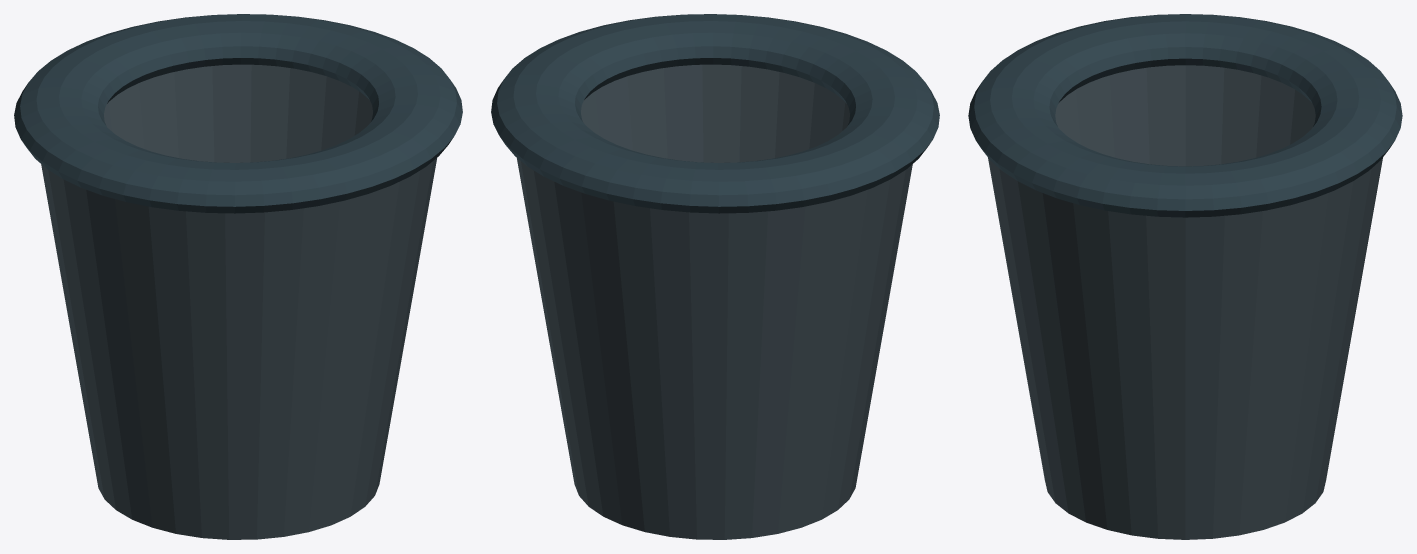
File: Lixo.fbx
3 renders of one model, left to right at view 1: azimuth 30°, elevation 25°; view 2: azimuth 150°, elevation 25°; view 3: azimuth 270°, elevation 25°, orthographic.
Parts seen in each view (by area): view 1: Cylinder, Torus; view 2: Cylinder, Torus; view 3: Cylinder, Torus.
Part boxes in pixels (<box>): Cylinder: <box>41,64,436,539</box>; Torus: <box>14,14,462,213</box>; Cylinder: <box>517,64,912,539</box>; Torus: <box>491,14,939,213</box>; Cylinder: <box>988,65,1382,539</box>; Torus: <box>968,14,1402,217</box>.
Bounding box in the file's own units: 218 × 204 × 210.
